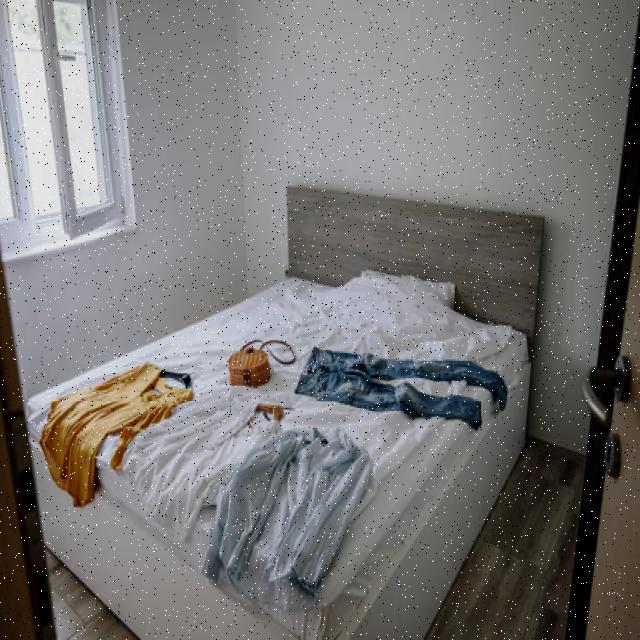bed: (29, 259, 536, 640)
